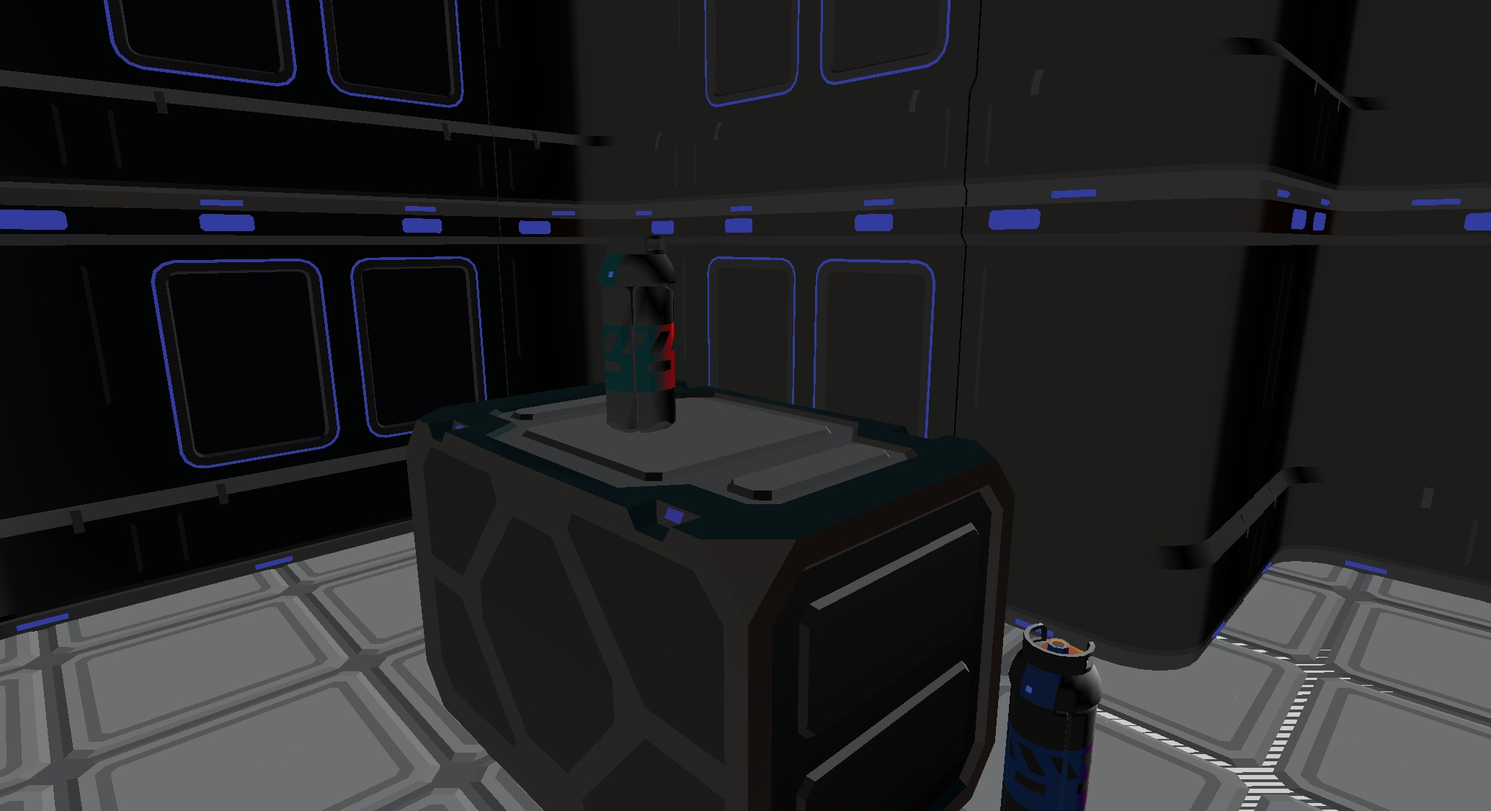red_barrel: (599, 234, 676, 431)
yellow_barrel: (1002, 624, 1101, 810)
